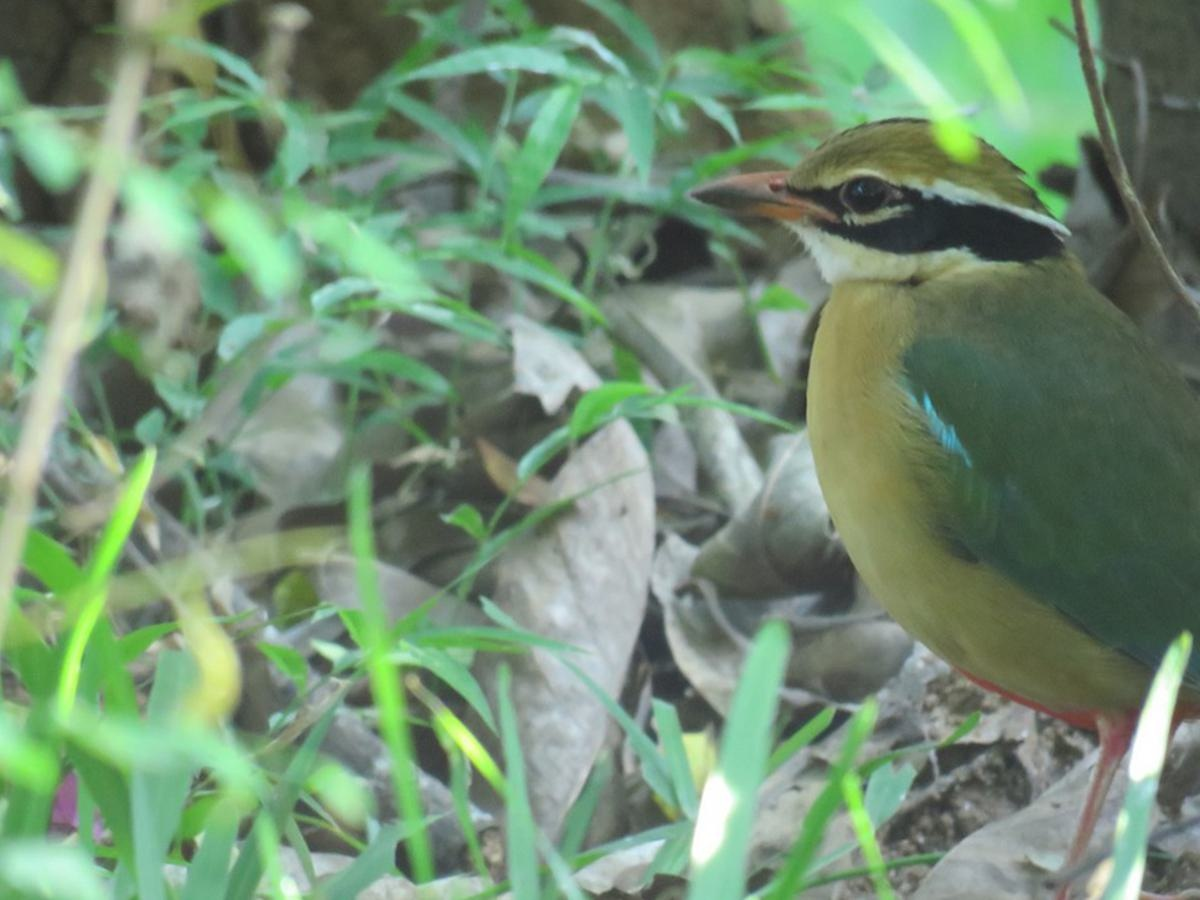pitta: (689, 98, 1184, 768)
